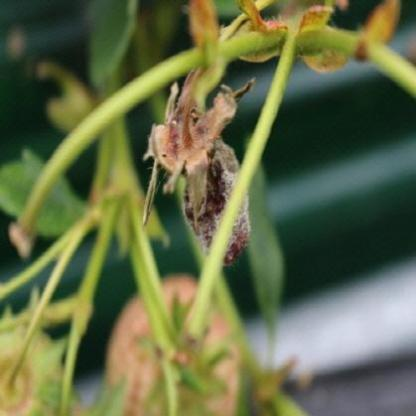Strawberry_Gray_Mold: (142, 65, 257, 268)
